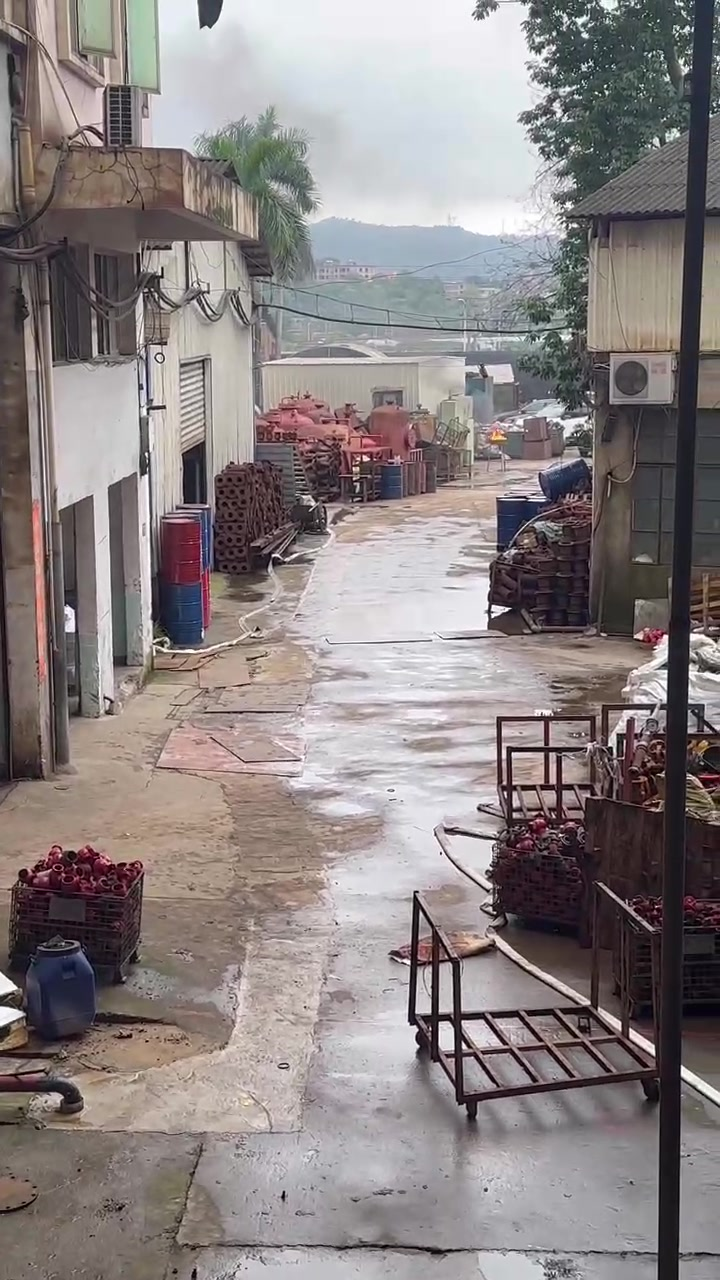fire: (487, 429, 506, 439)
